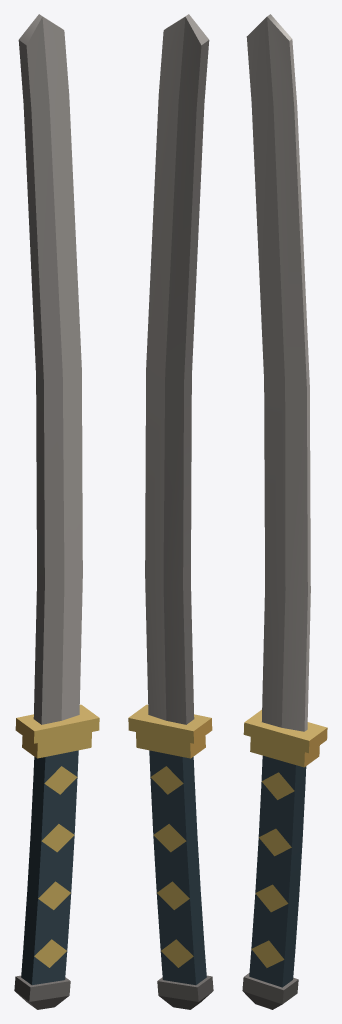
File: SF_Wep_Katana_01.fbx
The picture shows the model from 3 angles, left to right: view 1: azimuth 30°, elevation 25°; view 2: azimuth 150°, elevation 25°; view 3: azimuth 330°, elevation 25°; orthographic projection.
Parts seen in each view (by area): view 1: SF_Wep_Katana_01; view 2: SF_Wep_Katana_01; view 3: SF_Wep_Katana_01.
Boxes of the visible parts, x1=… form: SF_Wep_Katana_01: x1=14, y1=14, x2=99, y2=1009; SF_Wep_Katana_01: x1=128, y1=14, x2=213, y2=1009; SF_Wep_Katana_01: x1=242, y1=14, x2=327, y2=1009.
Size of the model in its own units: 0.2563 by 3.53 by 0.1178.
